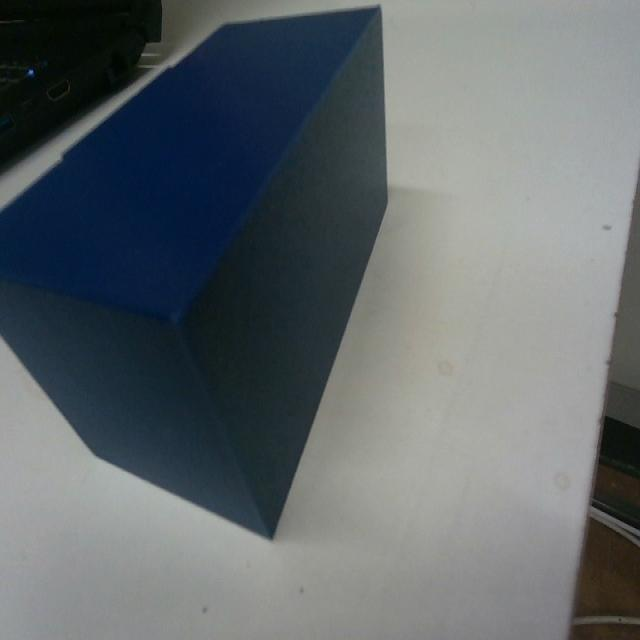Blue Cuboid: (0, 3, 391, 540)
